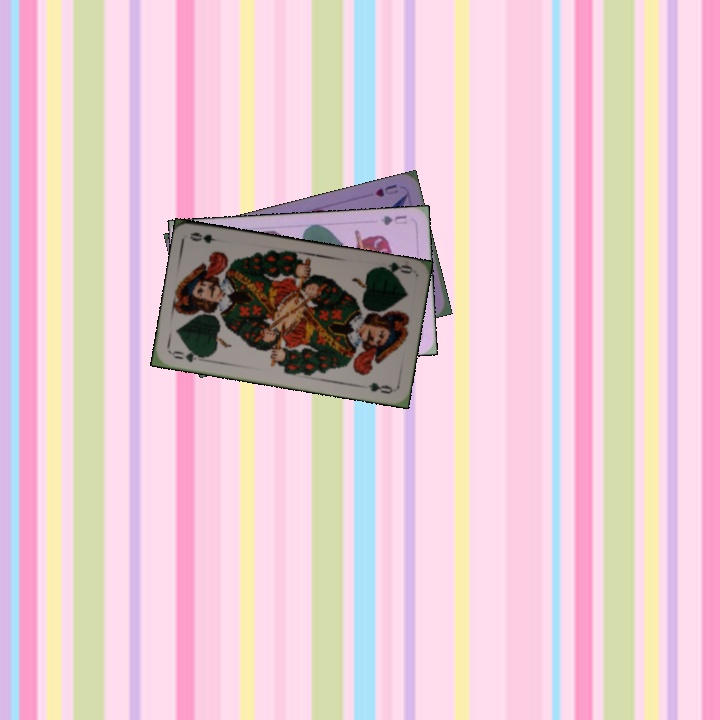GO: (373, 258, 414, 279), (168, 347, 209, 365)
GU: (377, 211, 409, 228)
HU: (371, 180, 400, 200)
